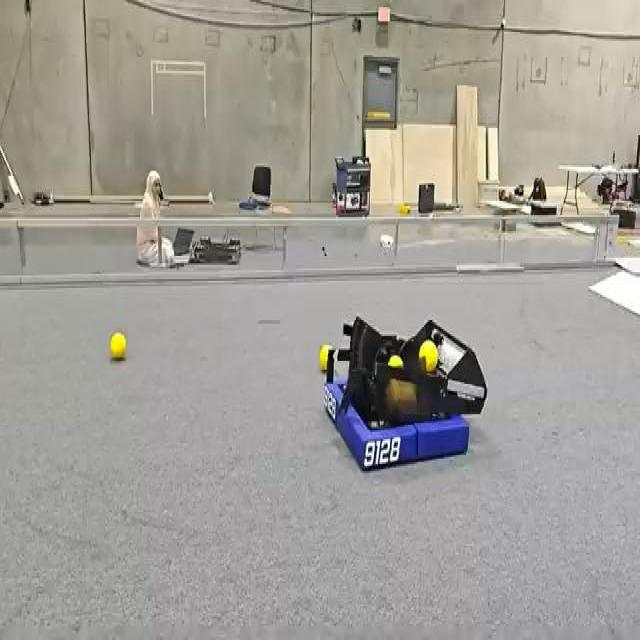Fuel: (419, 340, 438, 373), (419, 339, 437, 372), (110, 332, 126, 360), (110, 333, 126, 359), (319, 344, 333, 372), (319, 343, 332, 370), (388, 355, 404, 369), (388, 356, 403, 368), (400, 204, 410, 214)
